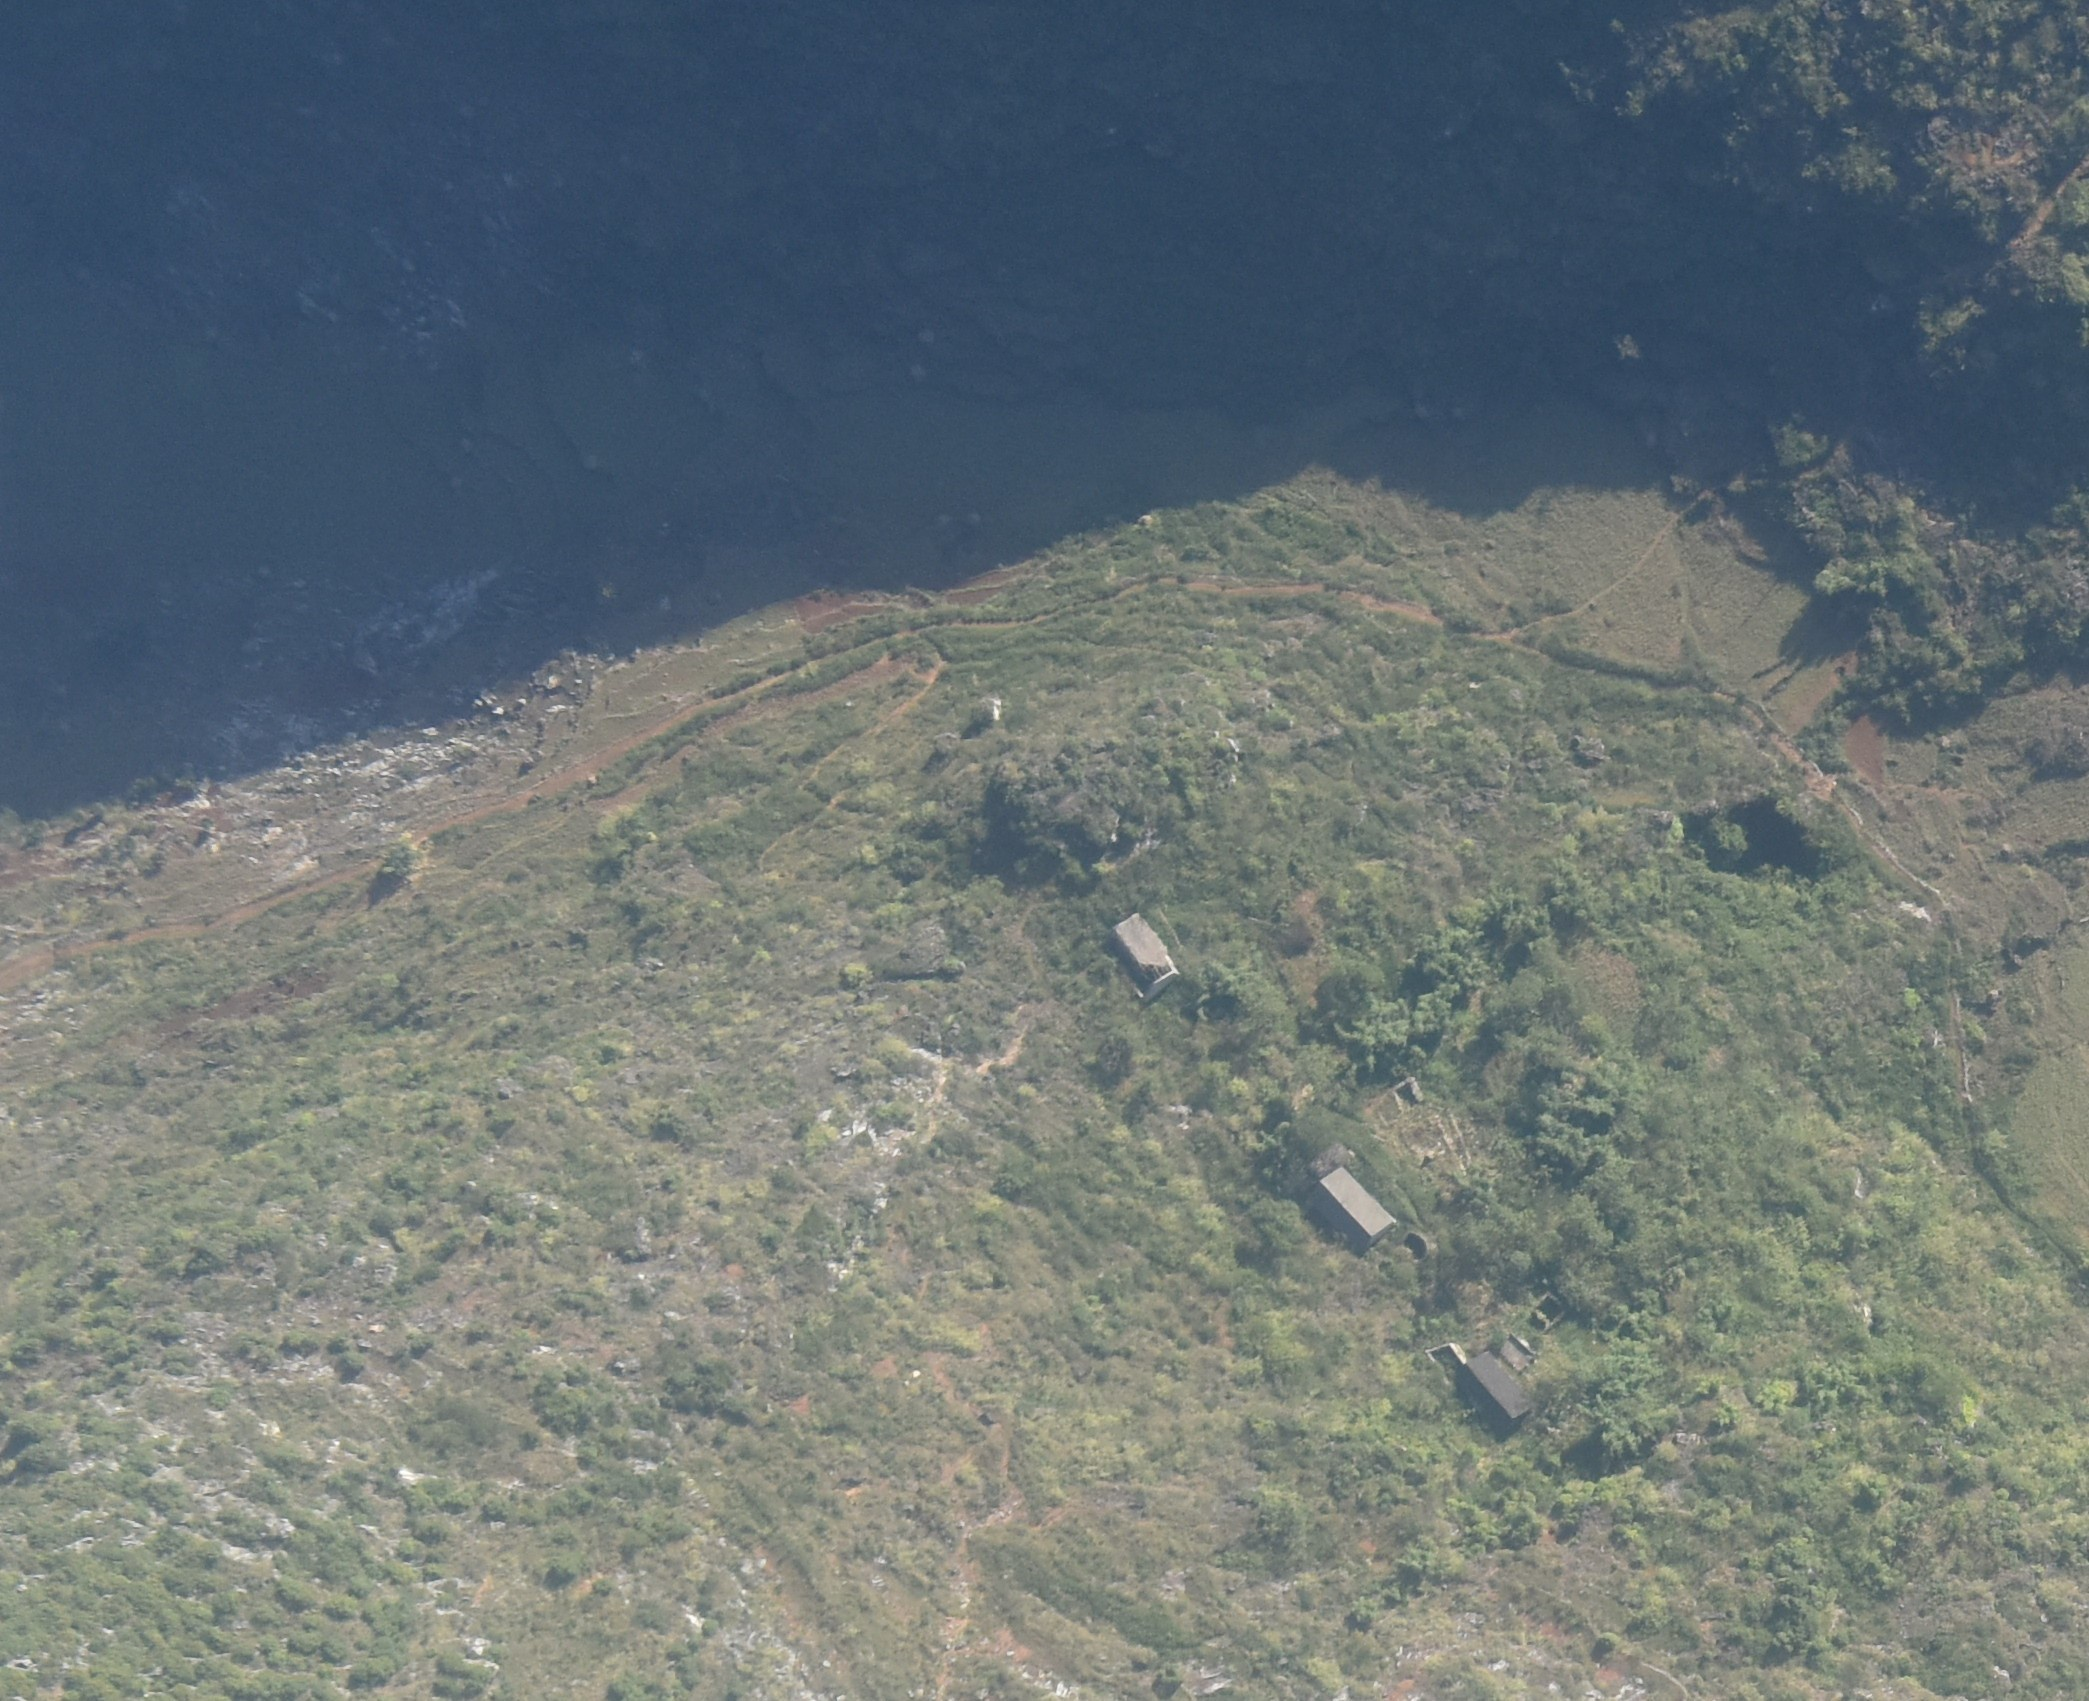building: (1112, 915, 1178, 1000), (1317, 1165, 1393, 1238), (1461, 1352, 1534, 1427)
